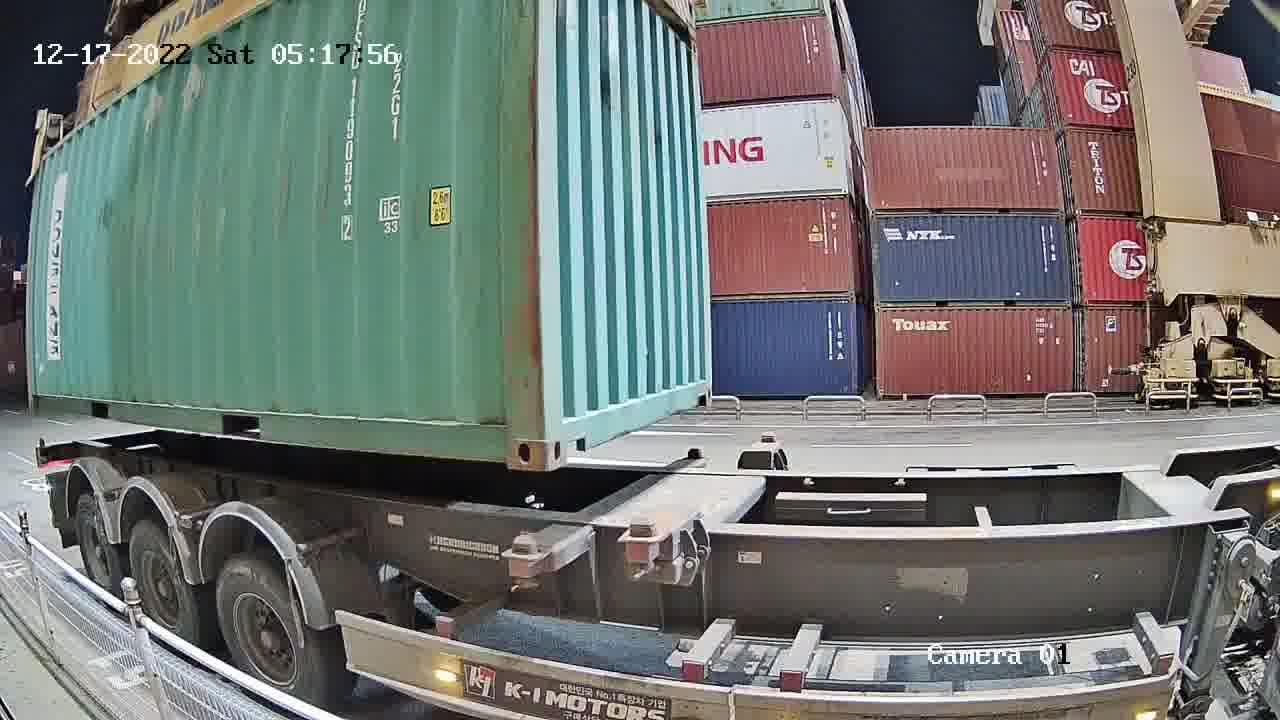Chassis: (510, 449, 713, 576)
Cone: (511, 570, 548, 599)
Container: (540, 348, 713, 474)
Hole_L: (538, 373, 579, 474)
Hole_R: (475, 376, 542, 471), (693, 349, 715, 416)
Tire: (212, 558, 325, 701), (126, 525, 201, 642), (72, 499, 123, 600)
